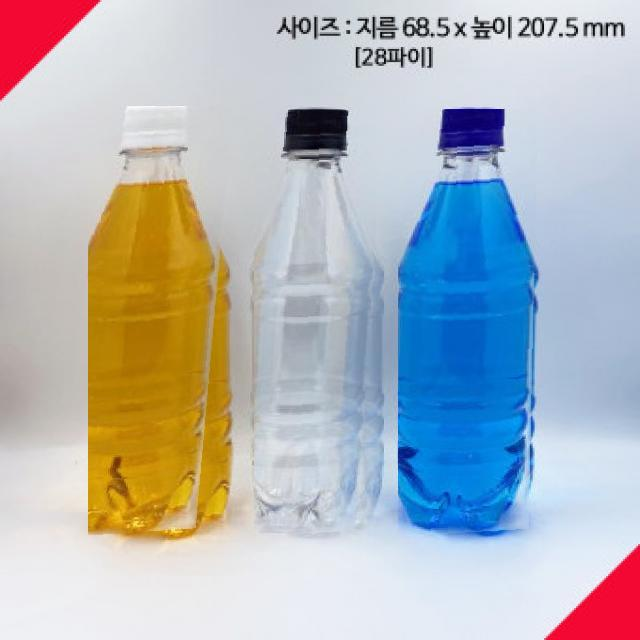plastic bottle: (88, 106, 234, 538), (398, 109, 538, 537), (254, 110, 384, 534)
